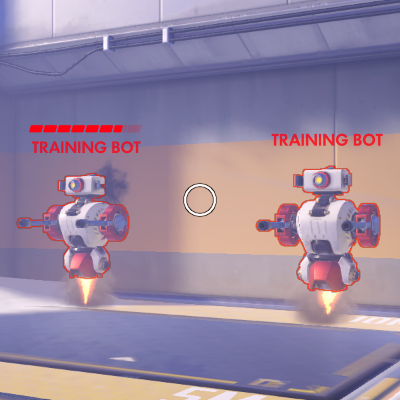hpbar: (29, 125, 142, 133)
